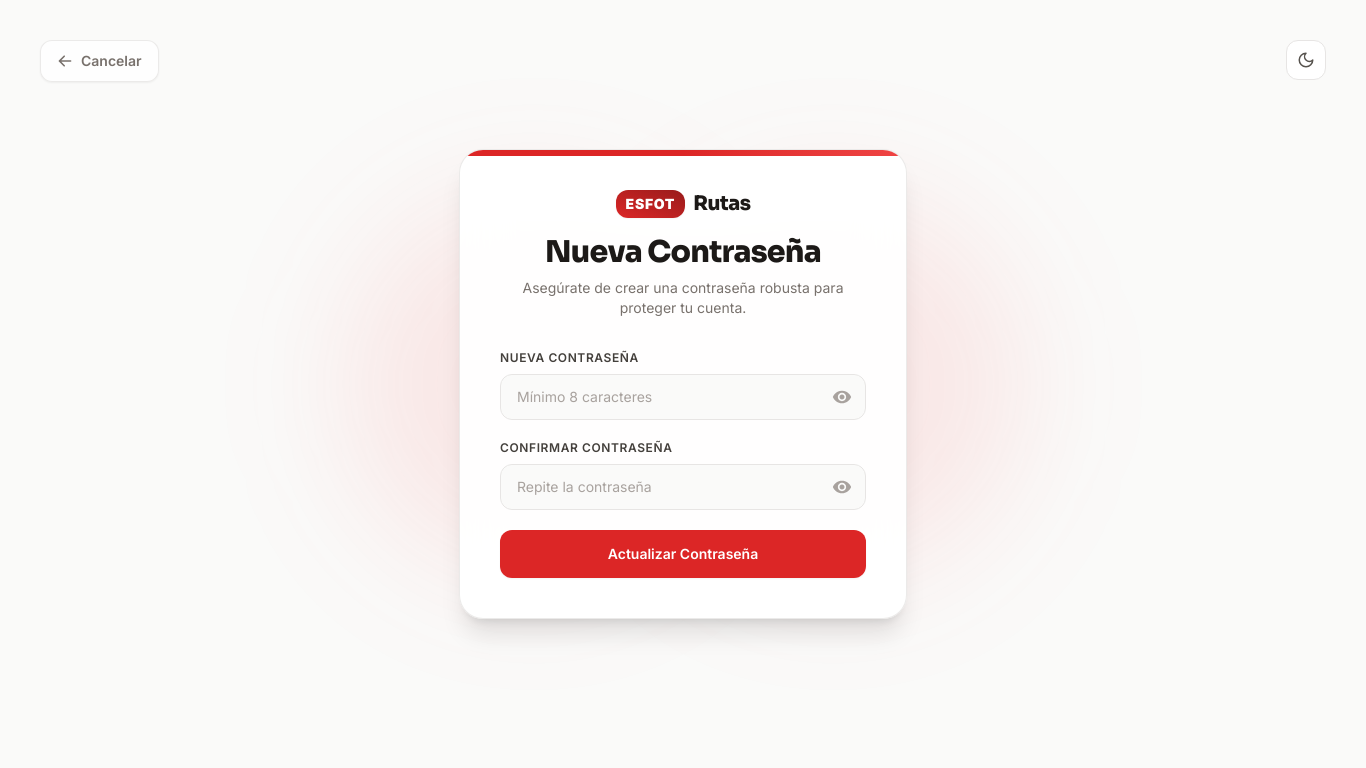
Reset — feedback dentro de la tarjeta › no llama al backend si las contraseñas no coinciden
Type "NuevaClave123" into the password field with placeholder "Mínimo 8 caracteres".
click(683, 397); type("NuevaClave123")  # box [500, 374, 866, 420]
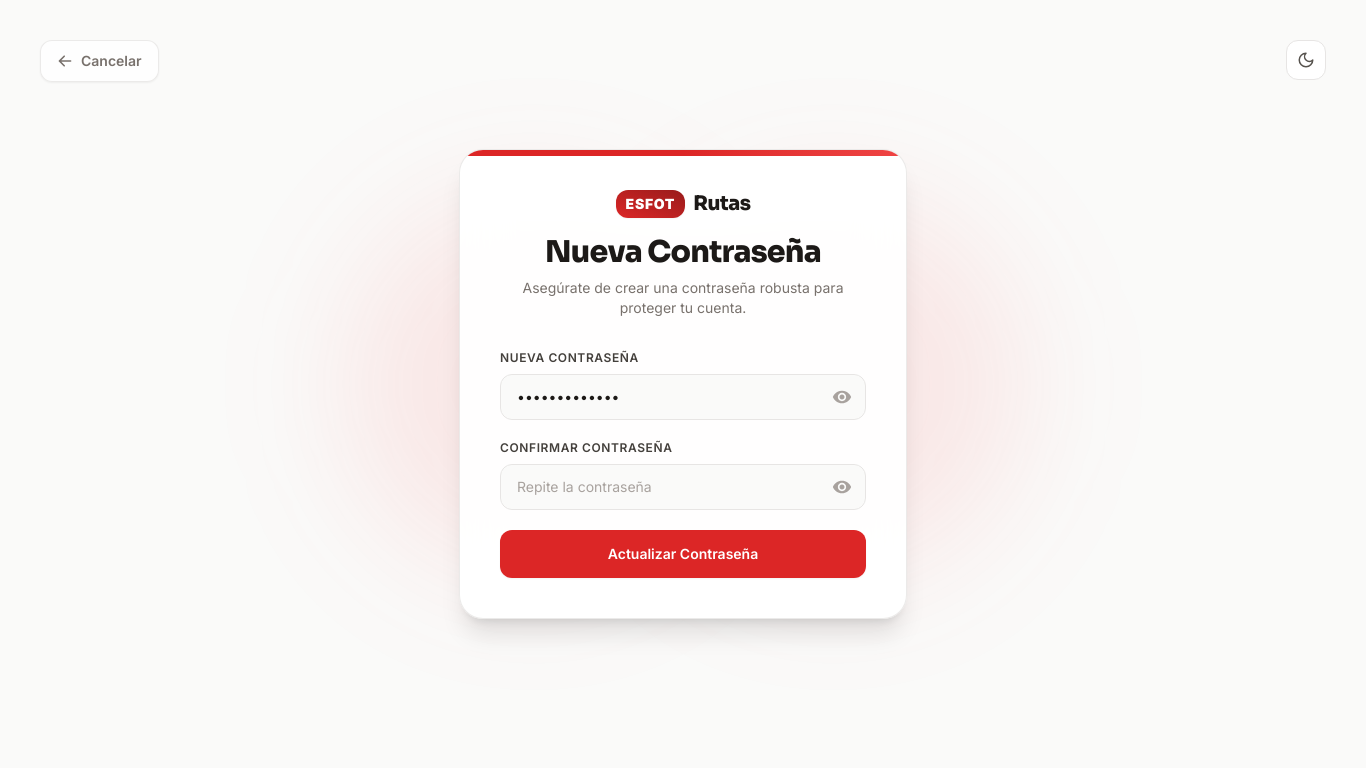
Type "OtraClave999" into the password field with placeholder "Repite la contraseña".
click(683, 487); type("OtraClave999")  # box [500, 464, 866, 510]
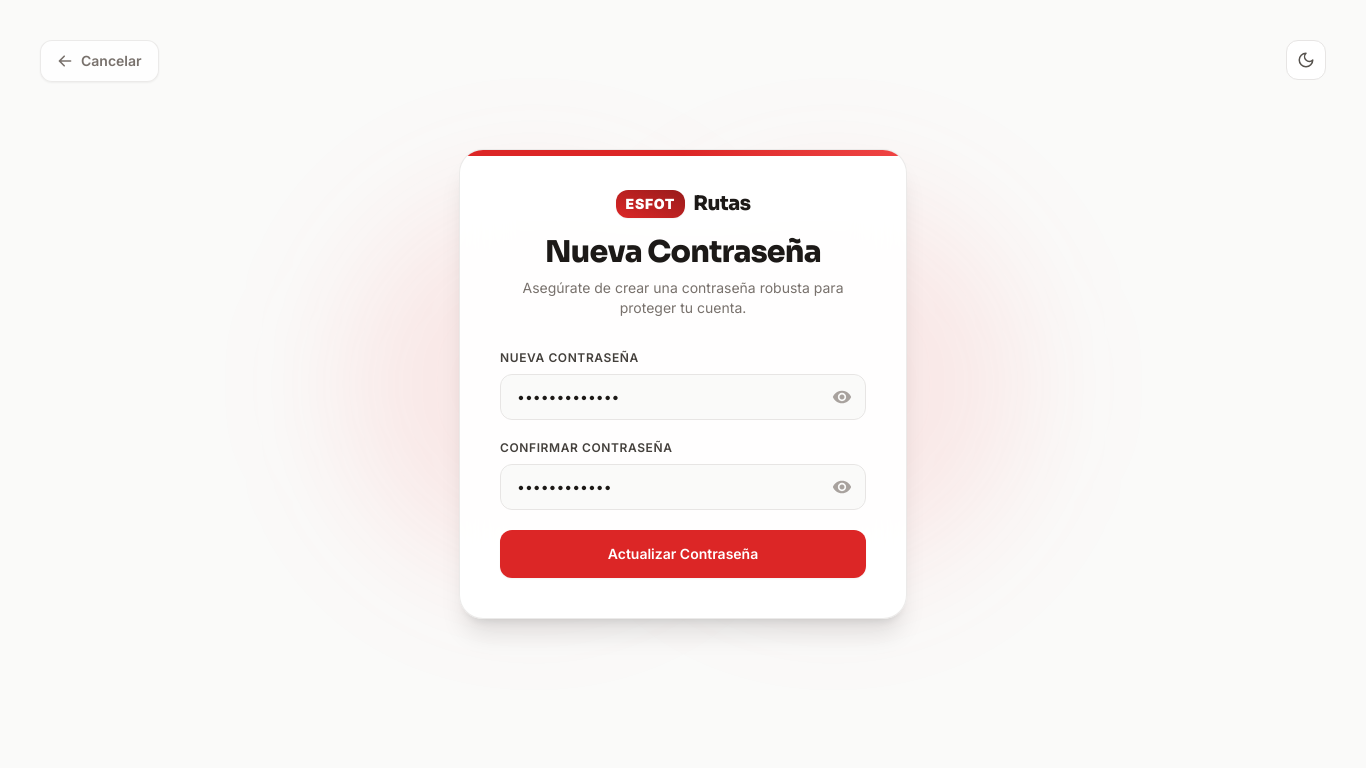
Click the button "Actualizar Contraseña".
click(683, 554)  # box [500, 530, 866, 578]
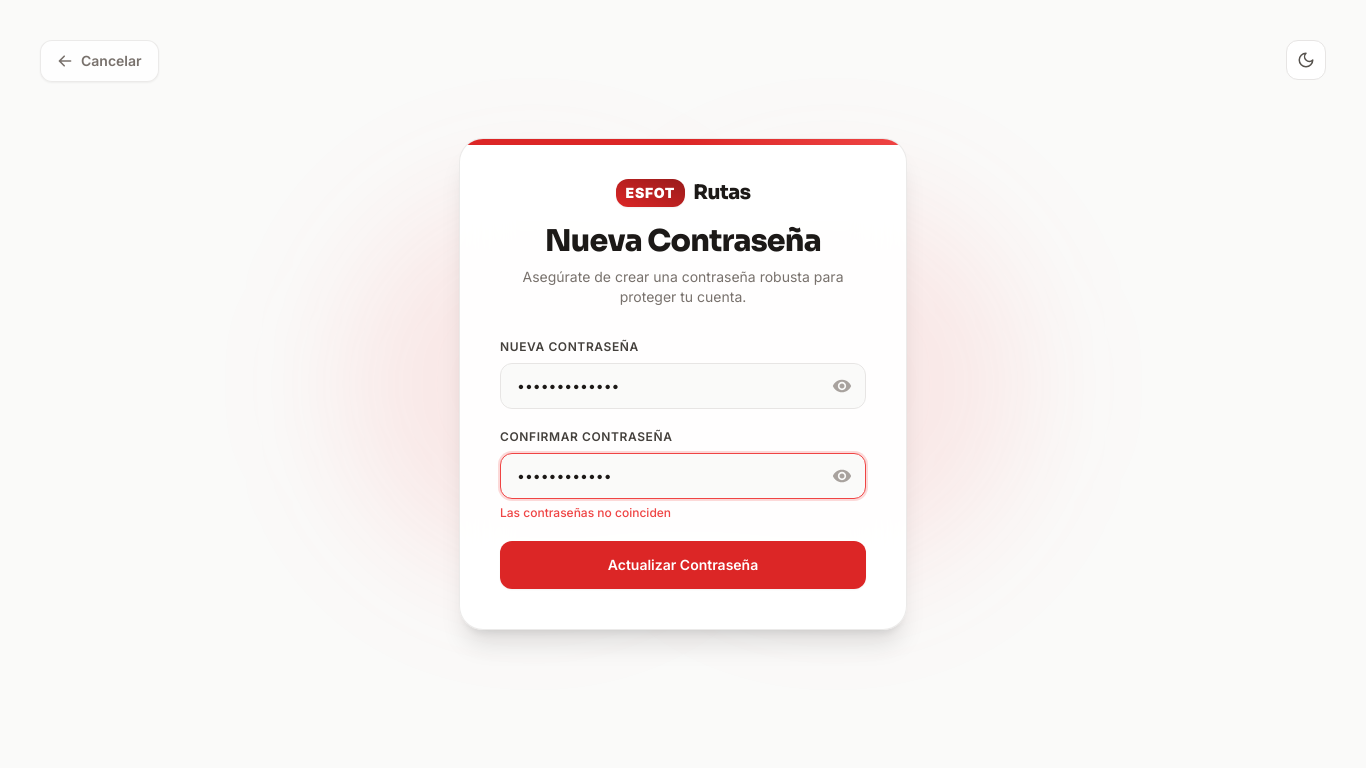
Now the text "Las contraseñas no coinciden" is shown, box [500, 505, 671, 520]
